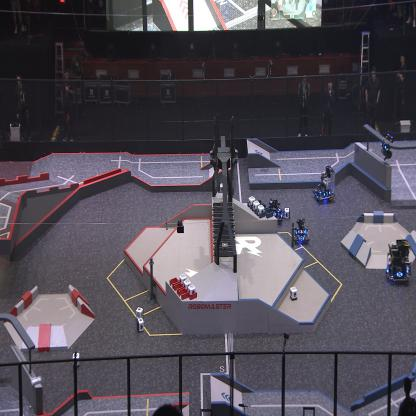car: (385, 238, 412, 283), (312, 163, 336, 205), (266, 197, 285, 227), (293, 216, 310, 244)
